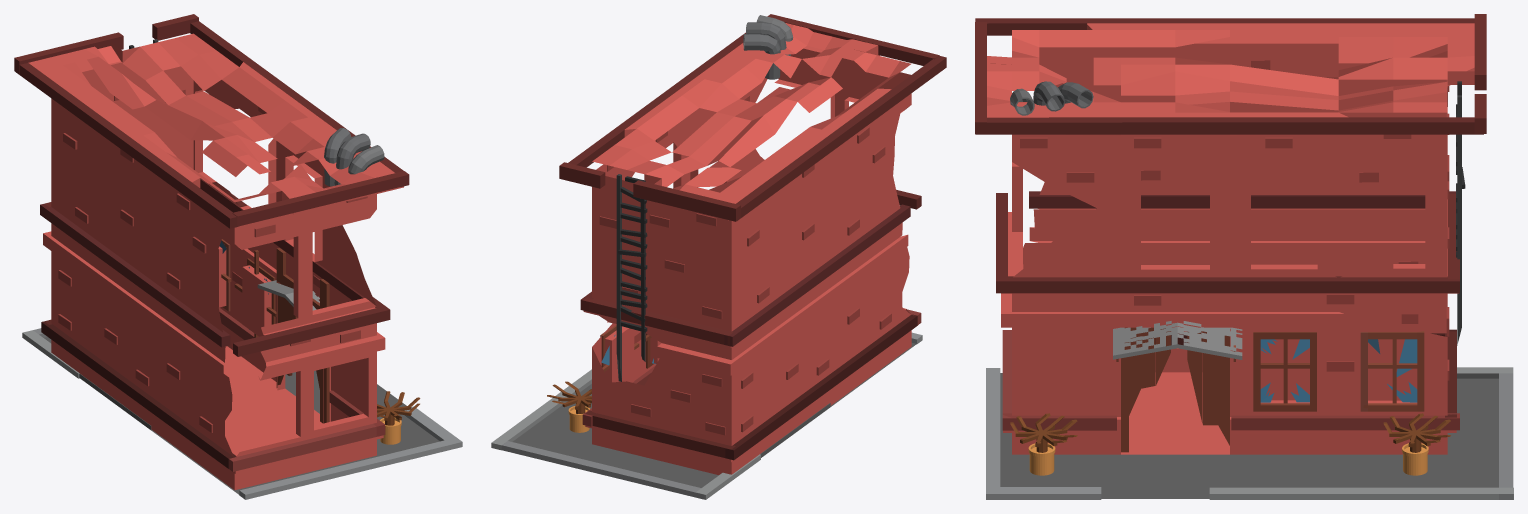
The model's file is RedHouse50%.fbx.
3 views of the same model, side by side, from view 1: azimuth 30°, elevation 25°; view 2: azimuth 150°, elevation 25°; view 3: azimuth 270°, elevation 25° (orthographic). The views are drawn at different scales.
Visible parts, largest first — view 1: Cube.133, Cube.045, Cube.242, Cube.003, Cube.039, Cube.046, Plane.023, Cube.036, Cube.037, Cube.042, Cube.044, Cube.013 (+9 smaller); view 2: Cube.133, Plane.023, Cube.045, Cube.039, Cube.003, Cube.044, Cube.243, Cube.002, Cube.040, Cube.042, Cube.046, Cube.244 (+6 smaller); view 3: Cube.133, Plane.023, Cube.042, Cube.013, Cube.038, Cube.003, Cube.244, Cube.045, Plane.003, Cube.242, Cube.243, Cube.044 (+21 smaller).
Part boxes in pixels (box(x1,y1,x2,y2)): Cube.133: box(28, 33, 403, 490); Cube.045: box(16, 63, 238, 228); Cube.242: box(239, 406, 462, 499); Cube.003: box(40, 203, 230, 347); Cube.039: box(41, 321, 236, 468); Cube.046: box(232, 171, 409, 226); Plane.023: box(40, 335, 442, 497); Cube.036: box(233, 306, 390, 356); Cube.037: box(229, 424, 376, 471); Cube.042: box(190, 21, 408, 186); Cube.044: box(14, 14, 198, 74); Cube.013: box(200, 178, 384, 309); Cube.133: box(583, 23, 911, 474); Plane.023: box(512, 341, 920, 487); Cube.045: box(736, 56, 946, 220); Cube.039: box(725, 314, 917, 460); Cube.003: box(724, 204, 910, 346); Cube.044: box(559, 162, 740, 221); Cube.243: box(501, 441, 704, 499); Cube.002: box(584, 297, 732, 346); Cube.040: box(585, 410, 735, 457); Cube.042: box(568, 32, 745, 167); Cube.046: box(767, 14, 939, 65); Cube.244: box(491, 369, 591, 450); Cube.133: box(987, 23, 1474, 454); Plane.023: box(1000, 373, 1498, 498); Cube.042: box(975, 117, 1483, 134); Cube.013: box(1002, 276, 1459, 293); Cube.038: box(1002, 413, 1459, 430); Cube.003: box(1029, 191, 1455, 208); Cube.244: box(1209, 487, 1513, 499); Cube.045: box(975, 18, 1474, 35); Plane.003: box(1113, 321, 1242, 359); Cube.242: box(986, 368, 1101, 499); Cube.243: box(1499, 373, 1513, 499); Cube.044: box(1474, 14, 1486, 133).
Bounding box in the file's own units: 334 × 418 × 552.
